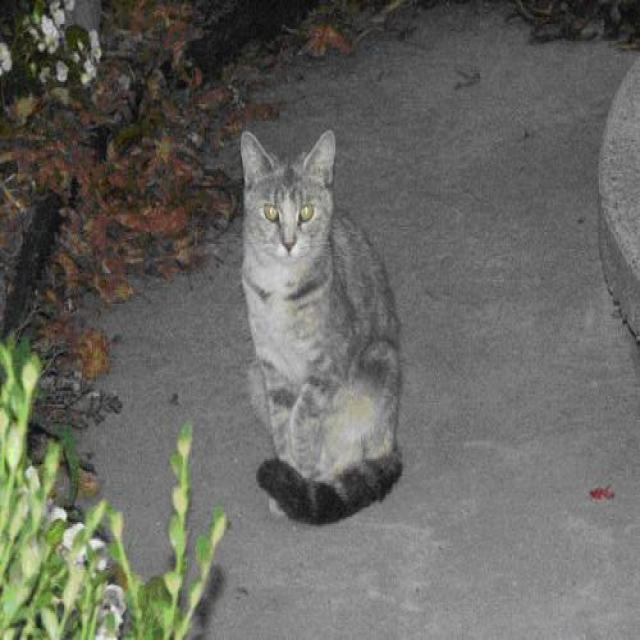Cats: (238, 126, 403, 524)
